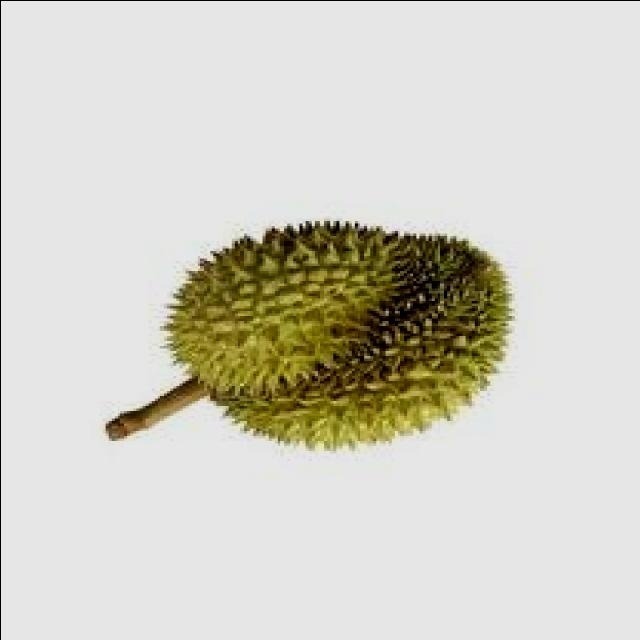agrume: (144, 192, 541, 470)
